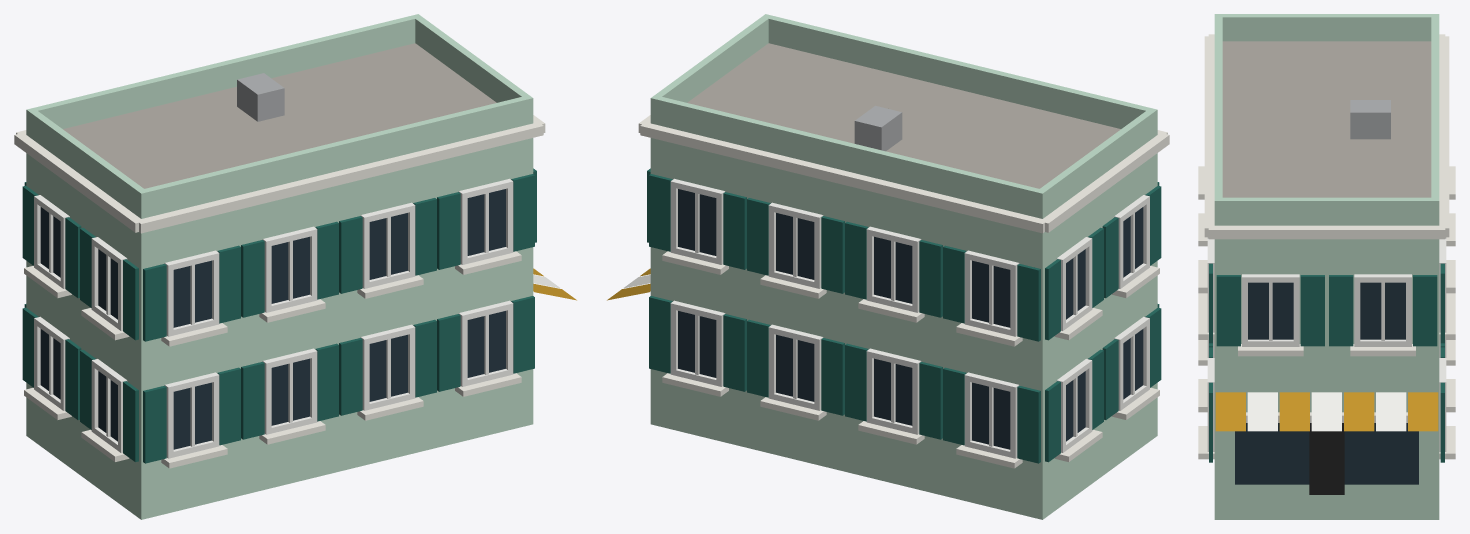
3 views of the same model, side by side, from view 1: azimuth 30°, elevation 25°; view 2: azimuth 150°, elevation 25°; view 3: azimuth 270°, elevation 25° (orthographic). The views are drawn at different scales.
Parts seen in each view (by area): view 1: b9297; view 2: b9297; view 3: b9297.
Boxes of the visible parts, left/top/right/bottom form: b9297: left=14, top=14, right=576, bottom=519; b9297: left=607, top=14, right=1169, bottom=519; b9297: left=1198, top=14, right=1455, bottom=519.
Bounding box in the file's own units: 5034 × 3509 × 2540.
